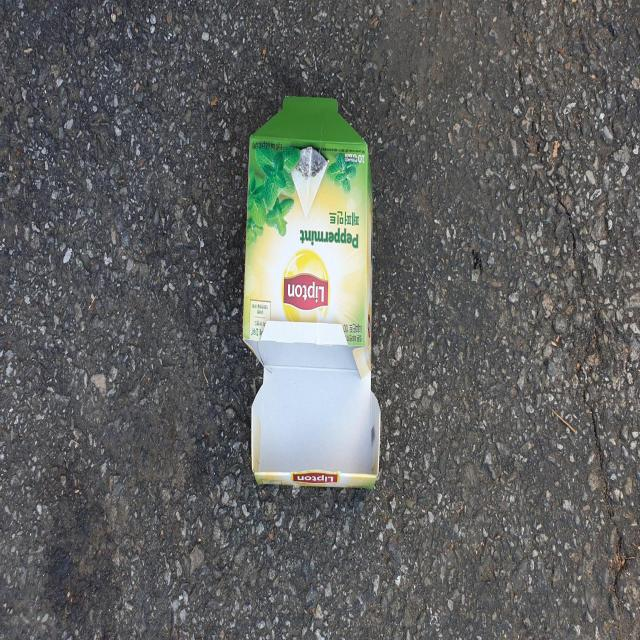paperpack: (243, 96, 381, 489)
